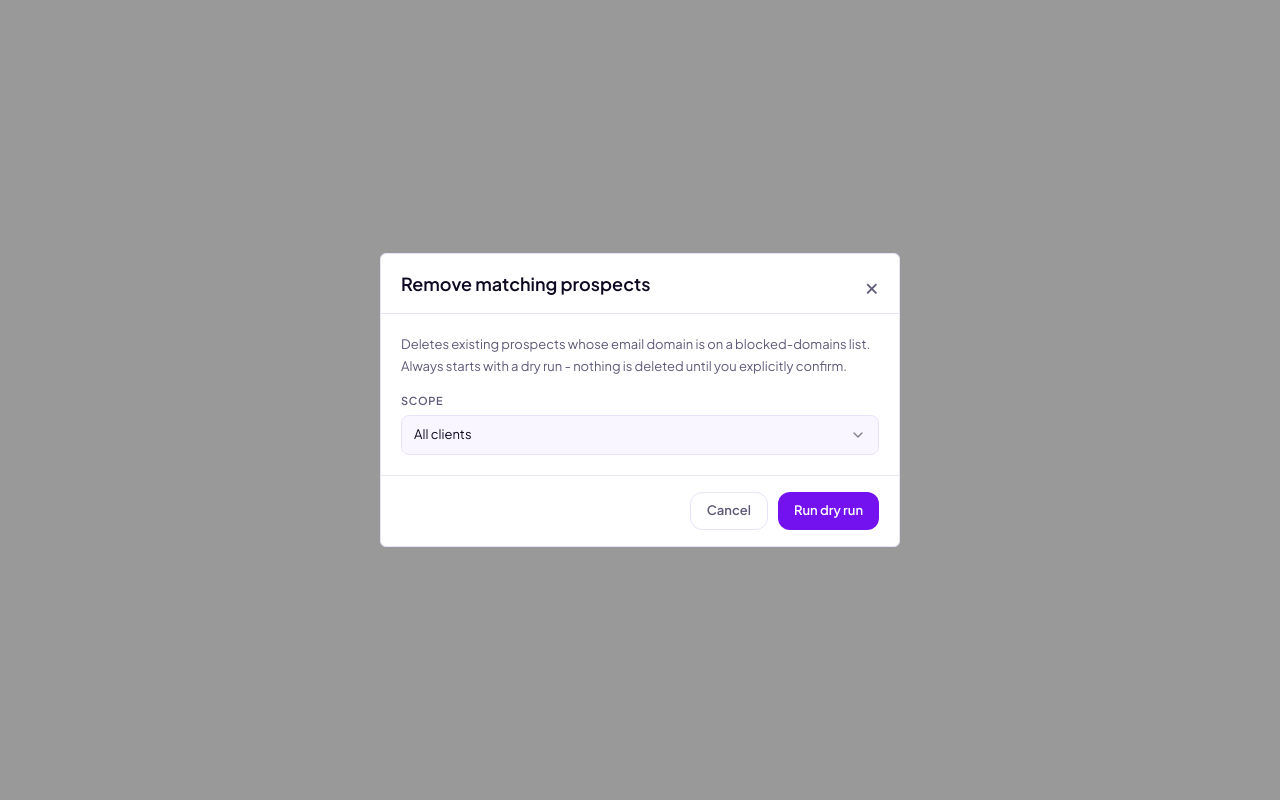
Test: PurgeModal dry-run gate › calls the dry run (p_confirm=false) before any destructive call is possible
Click the button "Run dry run".
click(828, 511)  # box [778,492,879,530]
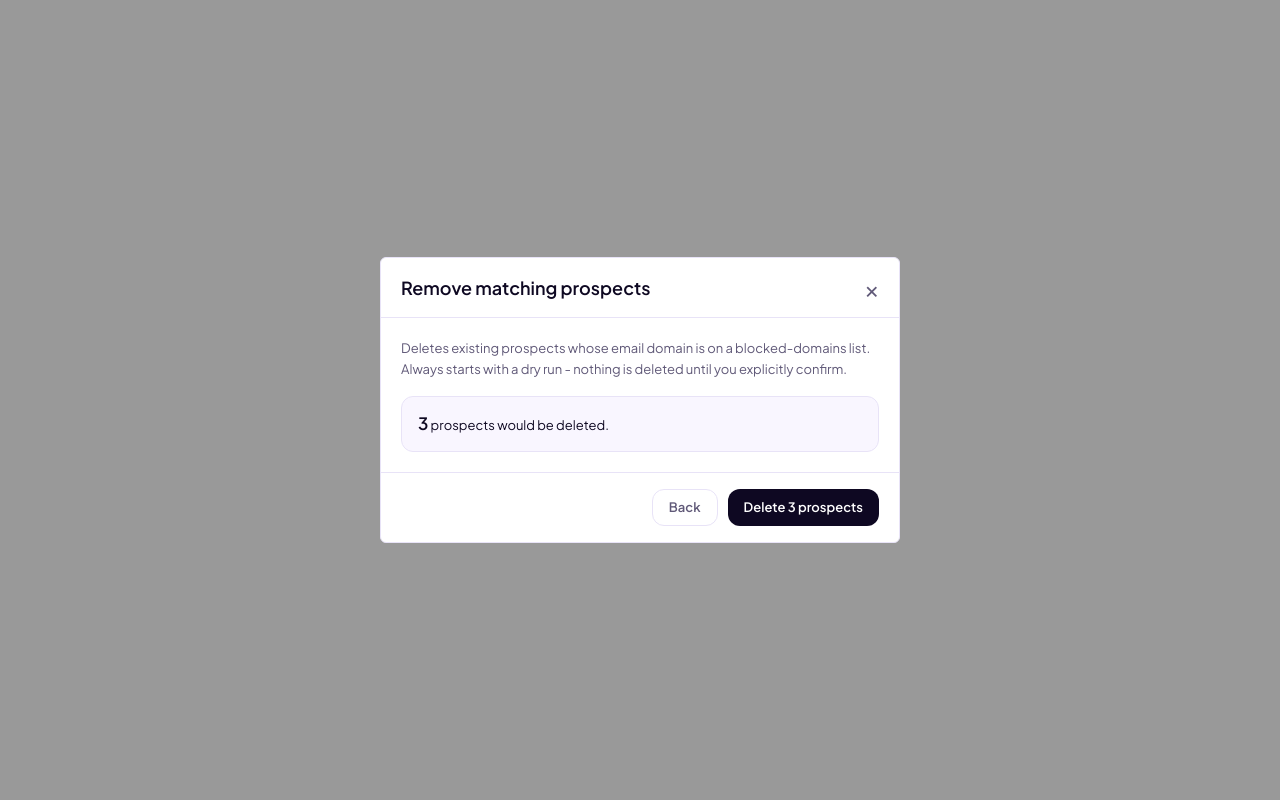
Expected: the button "Delete 3 prospects" is shown, [728,489,879,526]
